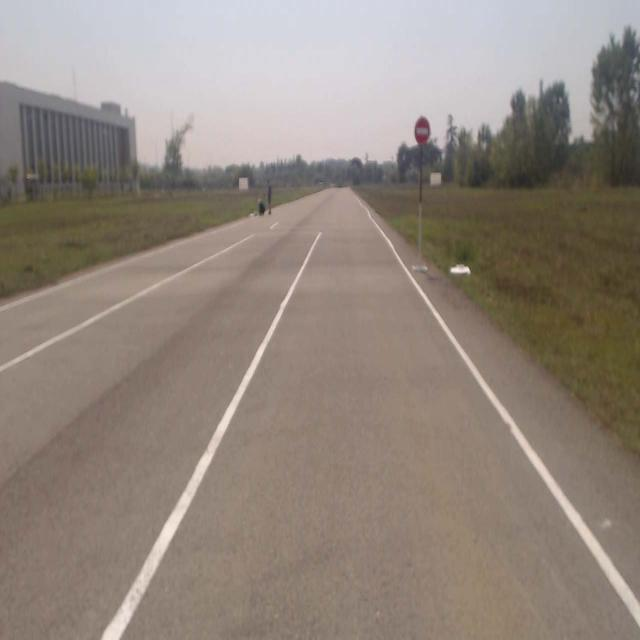girisyok: (415, 117, 430, 145)
